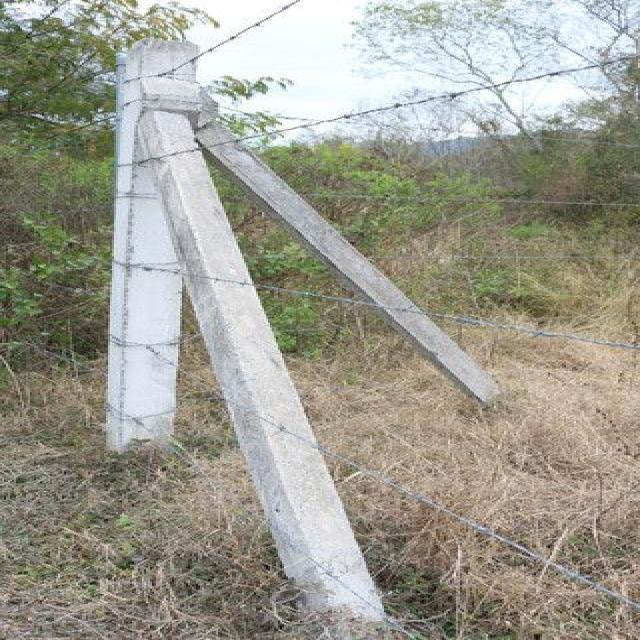fence: (142, 4, 638, 639), (108, 53, 302, 573)
